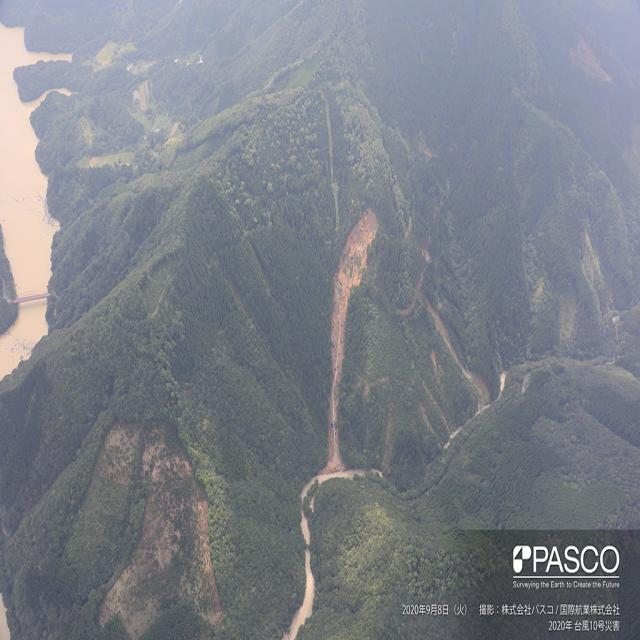Debris-flow: (94, 424, 224, 637), (302, 208, 379, 499), (0, 22, 71, 293), (421, 292, 491, 413), (284, 510, 315, 638), (0, 298, 48, 380)
